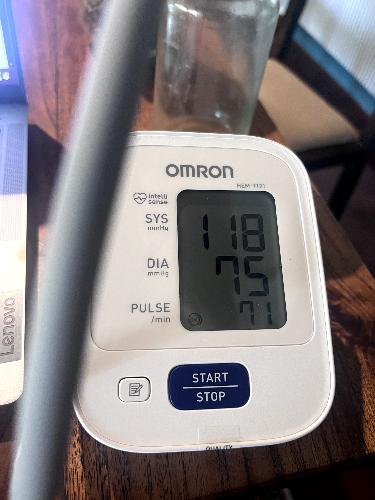bpm: (175, 186, 291, 333)
